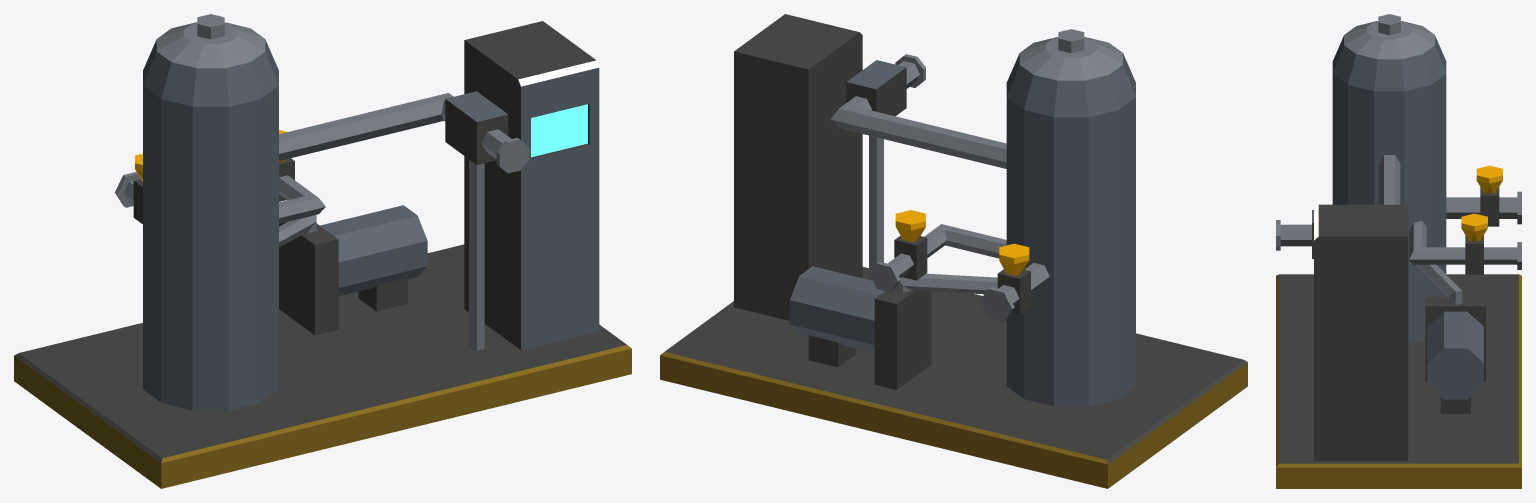
File: fuel_processor.glb
3 renders of one model, left to right at view 1: azimuth 30°, elevation 25°; view 2: azimuth 150°, elevation 25°; view 3: azimuth 270°, elevation 25°, orthographic. The views are drawn at different scales.
Parts seen in each view (by area): view 1: fuel_processor; view 2: fuel_processor; view 3: fuel_processor.
Part boxes in pixels (x1,y1,x2,y2): fuel_processor: (14,14,631,488); fuel_processor: (660,14,1247,488); fuel_processor: (1276,14,1521,488).
Bounding box in the file's own units: 2.4 × 1.9 × 1.3.
